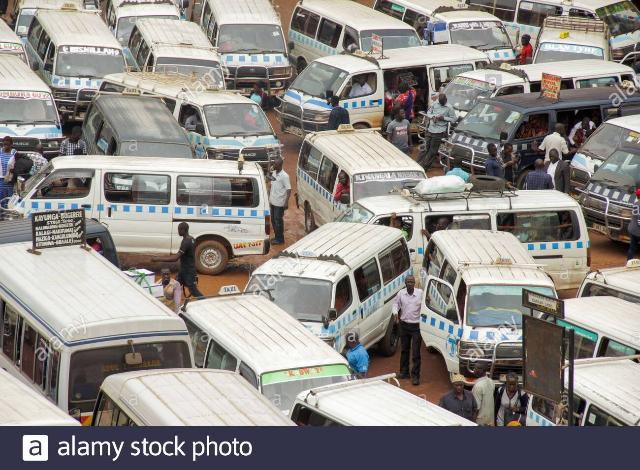van: (2, 241, 197, 420), (7, 154, 280, 276), (357, 183, 591, 307), (182, 289, 369, 426), (248, 220, 412, 358), (274, 43, 477, 151), (424, 228, 557, 383), (434, 81, 640, 179), (19, 5, 130, 125), (316, 224, 406, 357), (184, 68, 286, 173), (191, 1, 292, 100), (438, 58, 638, 105), (296, 1, 410, 81), (81, 88, 199, 162), (1, 50, 65, 169), (133, 16, 223, 90), (417, 0, 517, 51)
